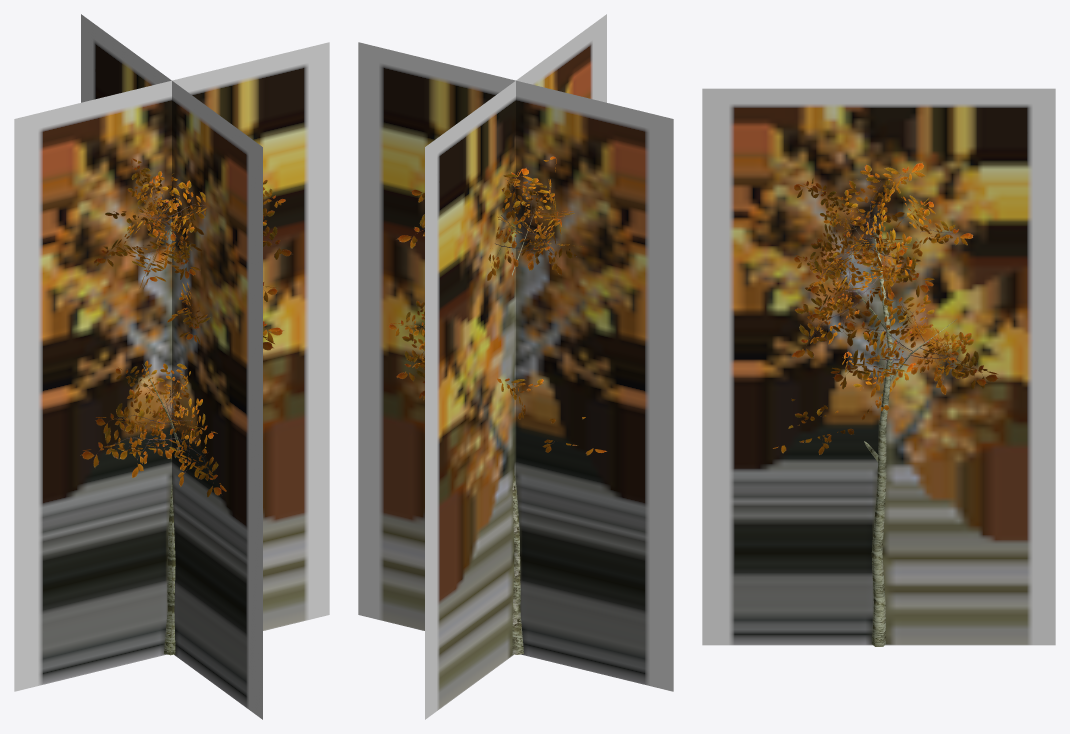
The model's file is Tree-Beech3C-mobile.fbx.
3 renders of one model, left to right at view 1: azimuth 30°, elevation 25°; view 2: azimuth 150°, elevation 25°; view 3: azimuth 270°, elevation 25°, orthographic. The views are drawn at different scales.
Visible parts, largest first — view 1: Billboard-BeechC, Tree-Beech3C-mobile_LOD0; view 2: Billboard-BeechC, Tree-Beech3C-mobile_LOD0; view 3: Billboard-BeechC, Tree-Beech3C-mobile_LOD0.
Boxes of the visible parts, <box> form: Billboard-BeechC: <box>14,14,329,719</box>; Tree-Beech3C-mobile_LOD0: <box>80,158,292,655</box>; Billboard-BeechC: <box>358,14,673,719</box>; Tree-Beech3C-mobile_LOD0: <box>389,156,606,654</box>; Billboard-BeechC: <box>702,88,1055,645</box>; Tree-Beech3C-mobile_LOD0: <box>773,162,998,646</box>.
Size of what is drawn, in the model's own units: 946 by 1642 by 946.
